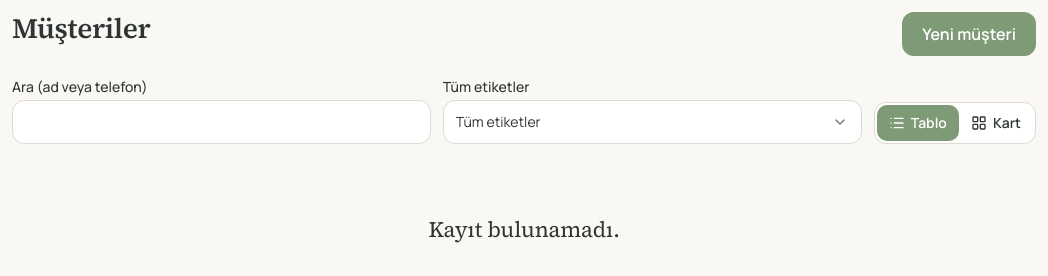
müşteri defteri › arama ÇIPLAK DİZİ yanıtını doğru okuyor
Type "zeynep" into the field labelled "Ara (ad veya telefon)".
click(221, 122); type("zeynep")  # box [12,100,431,144]
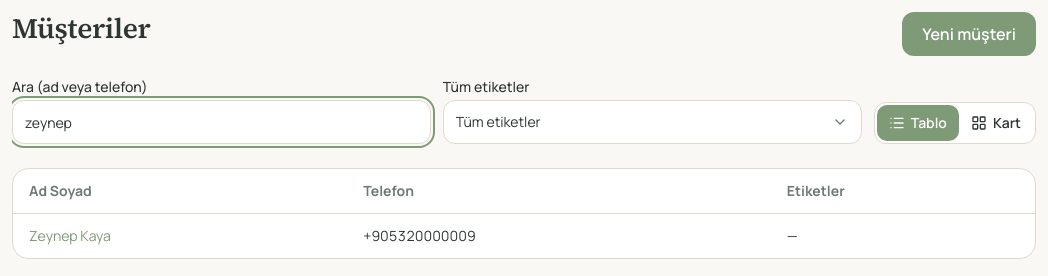
Now the link "Zeynep Kaya" is shown, box [29,226,111,245]
